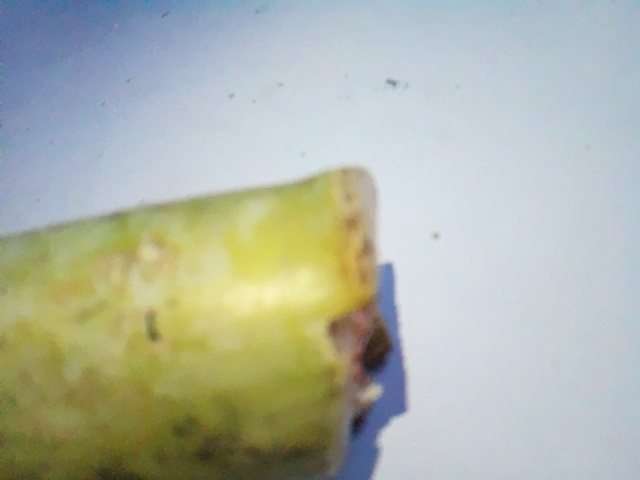Good Sugarcane: (0, 170, 375, 480)
